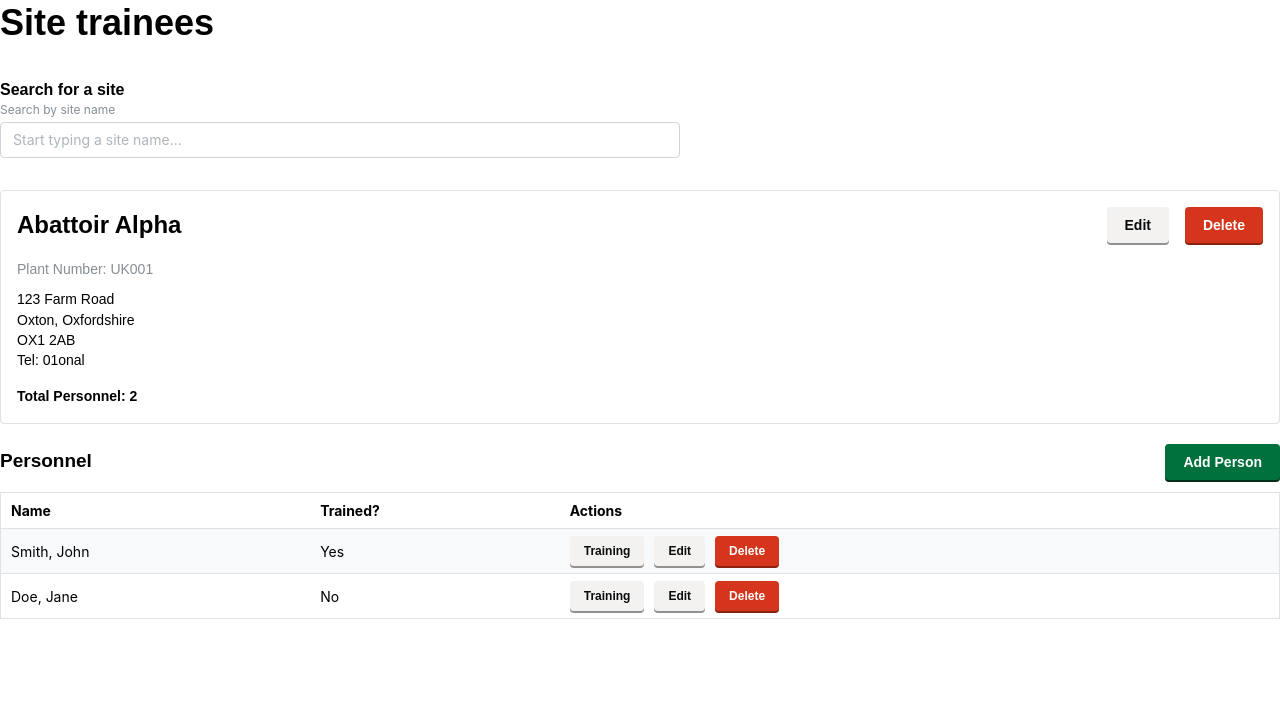
SiteTraineesPage › shows delete person confirmation modal and handles BR-012 conflict
The image size is (1280, 720).
What coordinates should you click on to do the following:
click the button with test id "delete-person-1"
I would click on:
 (747, 552)
Its box is [715,536,779,566].
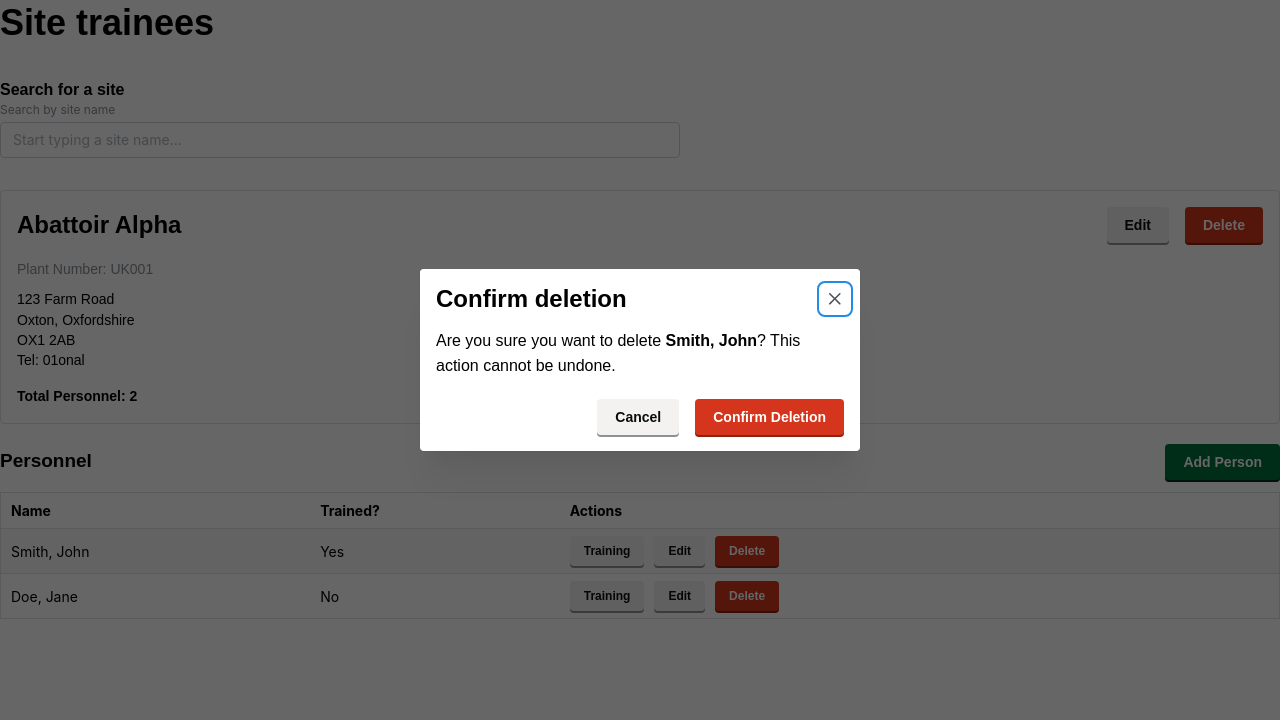
Check: the text "Are you sure you want to delete" is shown, box [436,332,661,349]
What coordinates should you click on to do the following:
click the button with test id "confirm-delete-person-button"
I would click on:
 (770, 417)
Its box is [695,399,844,435].
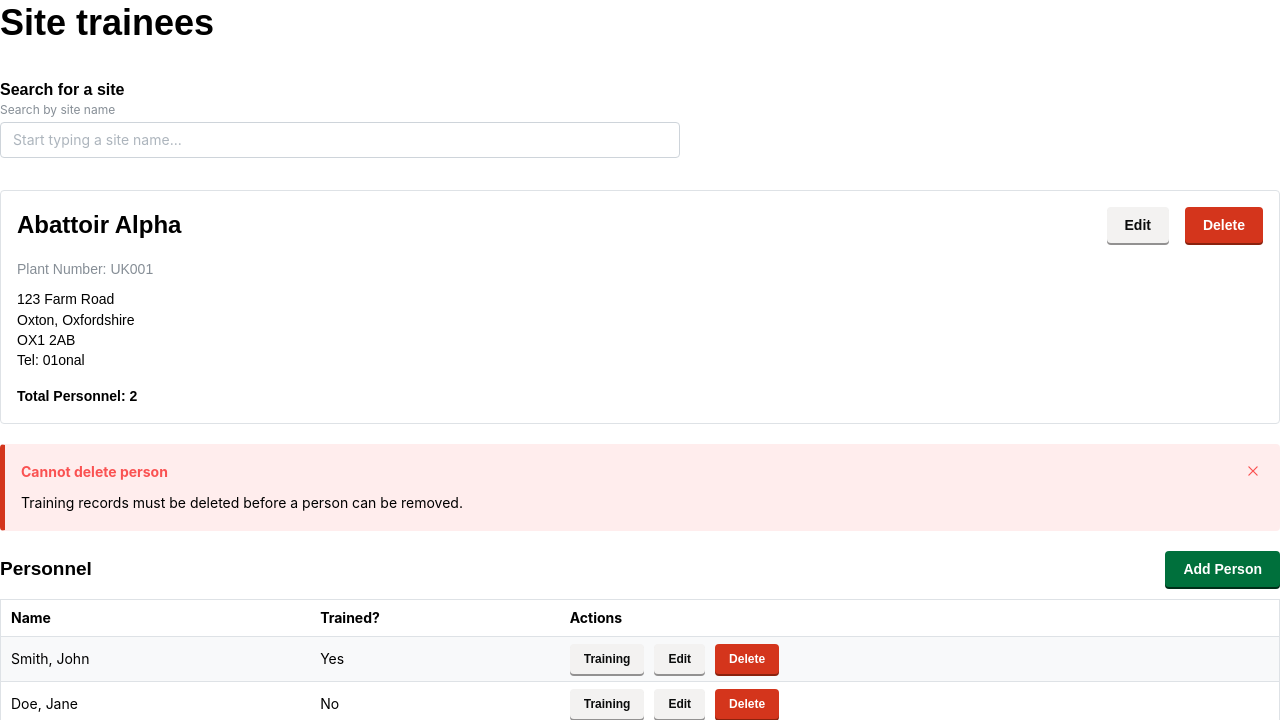
Check: the message with test id "delete-person-error" is shown, box [0,444,1279,531]
Check: the text "Training records must be deleted" is shown, box [21,494,463,512]
